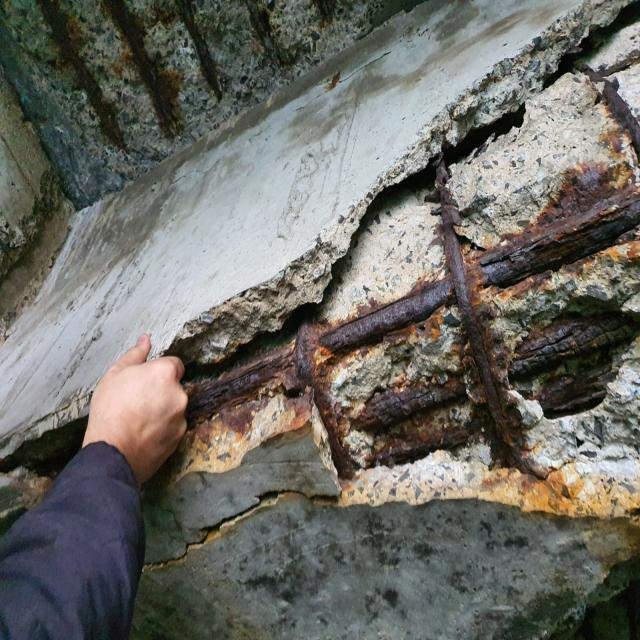Spalling: (150, 0, 639, 563), (0, 0, 419, 208)
corrosion: (39, 0, 128, 151), (103, 0, 181, 137), (176, 0, 221, 100), (245, 0, 283, 66)
